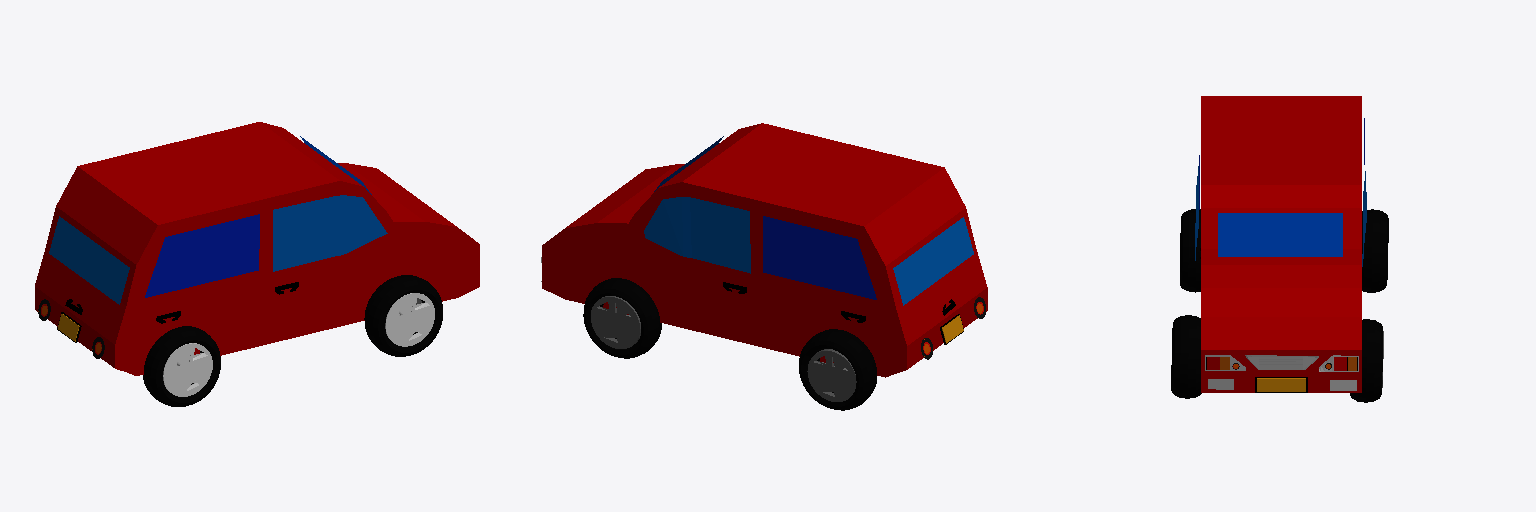
Rendered from car.obj.
3 renders of one model, left to right at view 1: azimuth 30°, elevation 25°; view 2: azimuth 150°, elevation 25°; view 3: azimuth 270°, elevation 25°, orthographic.
Parts seen in each view (by area): view 1: Cube.002_Cube.004, Plane.001, Plane.005, Plane.022_Plane.024, Torus.006_Torus.008, Torus.007_Torus.009, Cylinder.016_Cylinder.018, Cylinder.013_Cylinder.015; view 2: Cube.002_Cube.004, Plane.004, Plane.003, Plane.022_Plane.024, Torus.008_Torus.006, Torus.009_Torus.007, Cylinder.019, Cylinder.018_Cylinder.014; view 3: Cube.002_Cube.004, Plane.002, Torus.006_Torus.008, Torus.008_Torus.006, Torus.009_Torus.007, Torus.007_Torus.009, Plane.006, Cube.004_Cube.007, Plane.020_Plane.021.
Boxes of the visible parts, x1=… form: Cube.002_Cube.004: x1=35, y1=122, x2=479, y2=375; Plane.001: x1=273, y1=195, x2=387, y2=271; Plane.005: x1=145, y1=214, x2=259, y2=297; Plane.022_Plane.024: x1=49, y1=216, x2=129, y2=304; Torus.006_Torus.008: x1=364, y1=275, x2=442, y2=356; Torus.007_Torus.009: x1=143, y1=326, x2=220, y2=406; Cylinder.016_Cylinder.018: x1=163, y1=343, x2=212, y2=396; Cylinder.013_Cylinder.015: x1=385, y1=293, x2=434, y2=346; Cube.002_Cube.004: x1=542, y1=123, x2=987, y2=377; Plane.004: x1=763, y1=216, x2=876, y2=299; Plane.003: x1=644, y1=197, x2=750, y2=273; Plane.022_Plane.024: x1=893, y1=217, x2=973, y2=305; Torus.008_Torus.006: x1=799, y1=329, x2=876, y2=410; Torus.009_Torus.007: x1=583, y1=278, x2=661, y2=358; Cylinder.019: x1=591, y1=296, x2=640, y2=348; Cylinder.018_Cylinder.014: x1=807, y1=349, x2=856, y2=401; Cube.002_Cube.004: x1=1201, y1=96, x2=1361, y2=392; Plane.002: x1=1218, y1=213, x2=1342, y2=256; Torus.006_Torus.008: x1=1171, y1=315, x2=1201, y2=398; Torus.008_Torus.006: x1=1362, y1=209, x2=1388, y2=292; Torus.009_Torus.007: x1=1350, y1=319, x2=1382, y2=402; Torus.007_Torus.009: x1=1180, y1=209, x2=1200, y2=292; Plane.006: x1=1205, y1=355, x2=1358, y2=390; Cube.004_Cube.007: x1=1255, y1=377, x2=1307, y2=392; Plane.020_Plane.021: x1=1248, y1=357, x2=1316, y2=369.
Bounding box in the file's own units: 8.58 × 4.05 × 4.29.